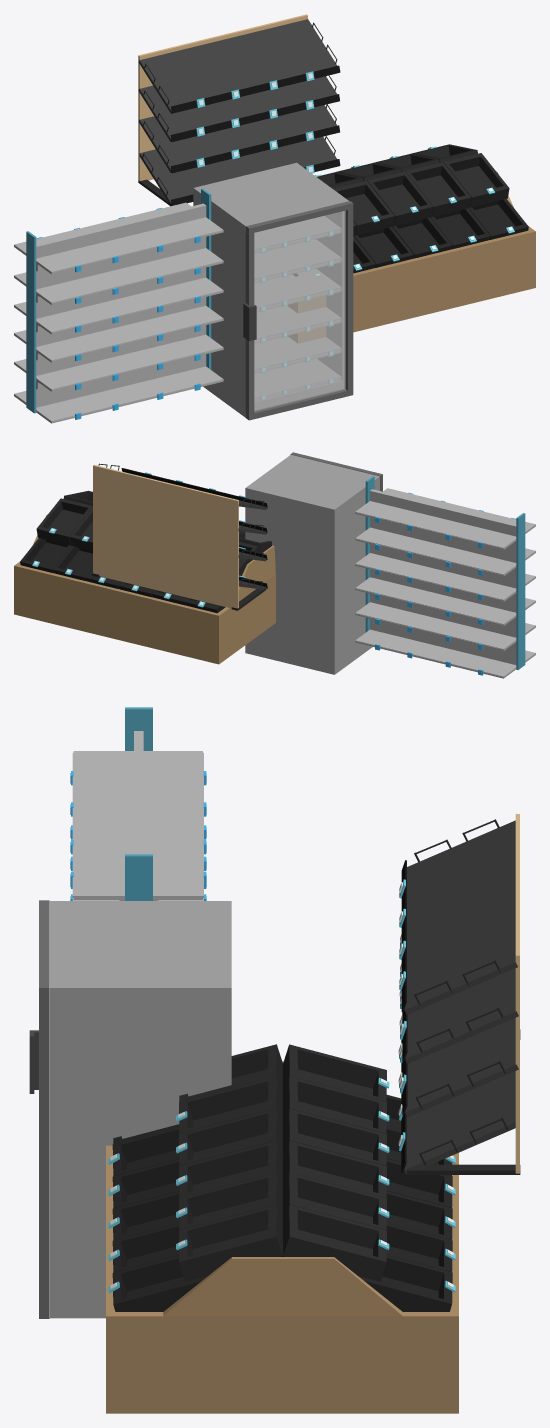
Rendered from new products.fbx.
3 views of the same model, one above another, from view 1: azimuth 30°, elevation 25°; view 2: azimuth 150°, elevation 25°; view 3: azimuth 270°, elevation 25° (orthographic). The views are drawn at different scales.
Parts seen in each view (by area): view 1: Cube.001, Cube.013, Cube.042, Cube.043; view 2: Cube.001, Cube.013, Cube.043, Cube.042; view 3: Cube.043, Cube.013, Cube.042, Cube.001.
Boxes of the visible parts, bbox=[...] form: Cube.001: bbox=[14, 188, 223, 423]; Cube.013: bbox=[193, 162, 353, 420]; Cube.042: bbox=[138, 14, 340, 206]; Cube.043: bbox=[288, 144, 535, 343]; Cube.001: bbox=[355, 476, 535, 678]; Cube.013: bbox=[245, 452, 382, 674]; Cube.043: bbox=[14, 490, 275, 664]; Cube.042: bbox=[93, 463, 267, 610]; Cube.043: bbox=[106, 1044, 458, 1413]; Cube.013: bbox=[29, 900, 231, 1318]; Cube.042: bbox=[398, 814, 520, 1174]; Cube.001: bbox=[70, 707, 206, 900].
Size of the model in its own units: 13595 by 6702 by 6749.
